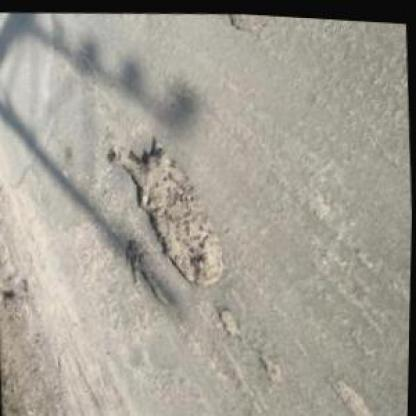pothole: (101, 126, 229, 286), (122, 232, 175, 306), (226, 11, 282, 31), (215, 297, 241, 337)
